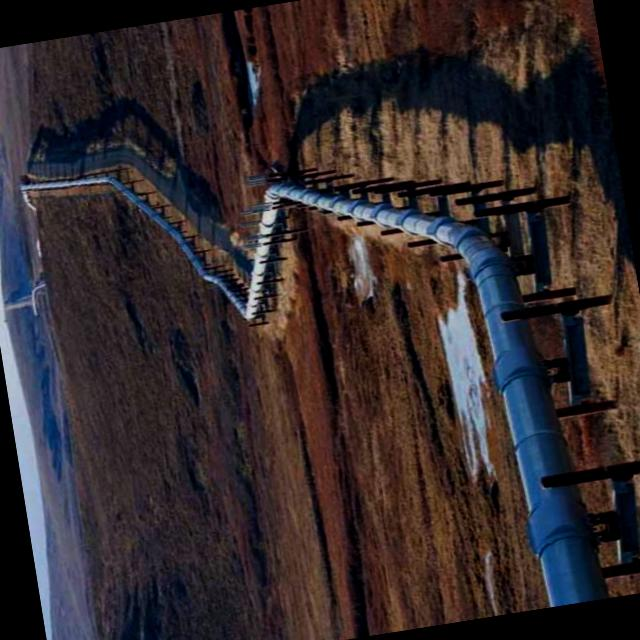gas: (24, 172, 605, 608)
